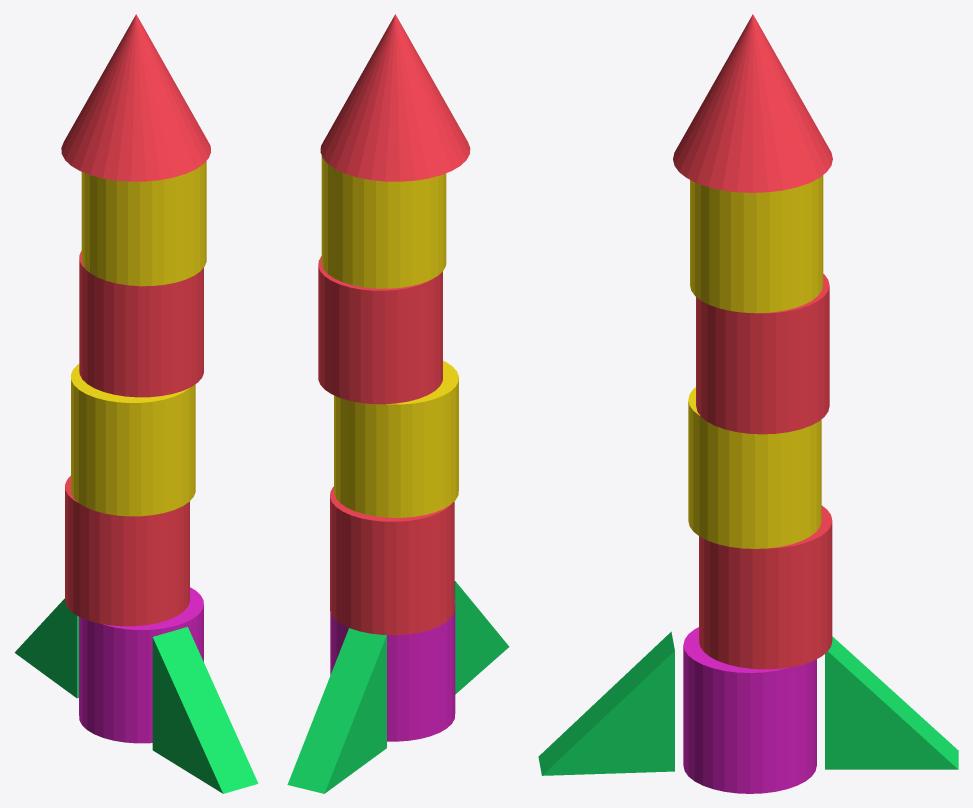
Rendered from map_objects_rocket.fbx.
3 renders of one model, left to right at view 1: azimuth 30°, elevation 25°; view 2: azimuth 150°, elevation 25°; view 3: azimuth 270°, elevation 25°, orthographic. The views are drawn at different scales.
Parts seen in each view (by area): view 1: 円柱.002; view 2: 円柱.002; view 3: 円柱.002.
Boxes of the visible parts, x1,y1,x2,y2 form: 円柱.002: (14,14,258,793); 円柱.002: (287,14,509,793); 円柱.002: (538,14,958,793).
Bounding box in the file's own units: 240 × 1240 × 630.
